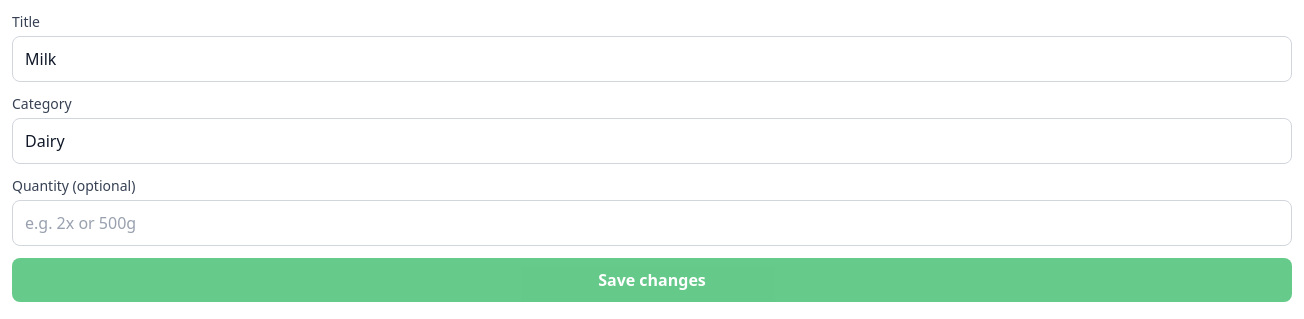
Scenario: CategoryCombobox in ItemEditForm (T93) › 4. keyboard-only selection works
Click the dropdown labelled "Category" at {"x": 652, "y": 141}, box 12,118 -> 1292,164
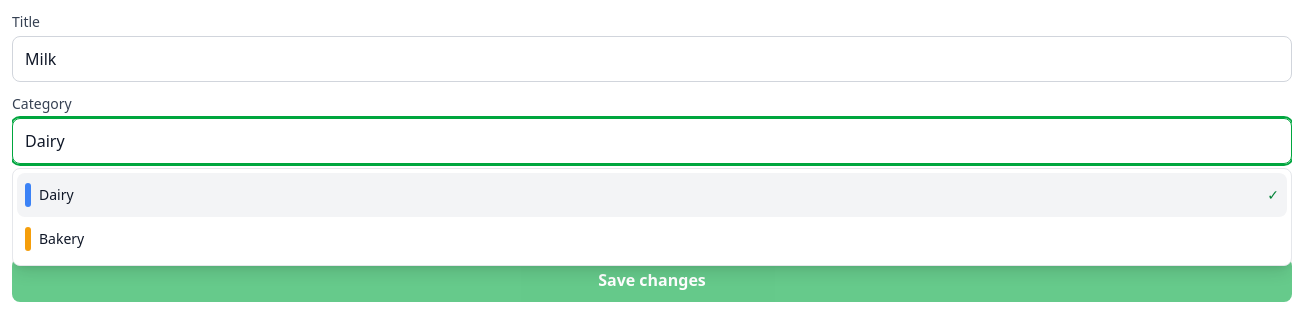
Press Arrowdown Enter
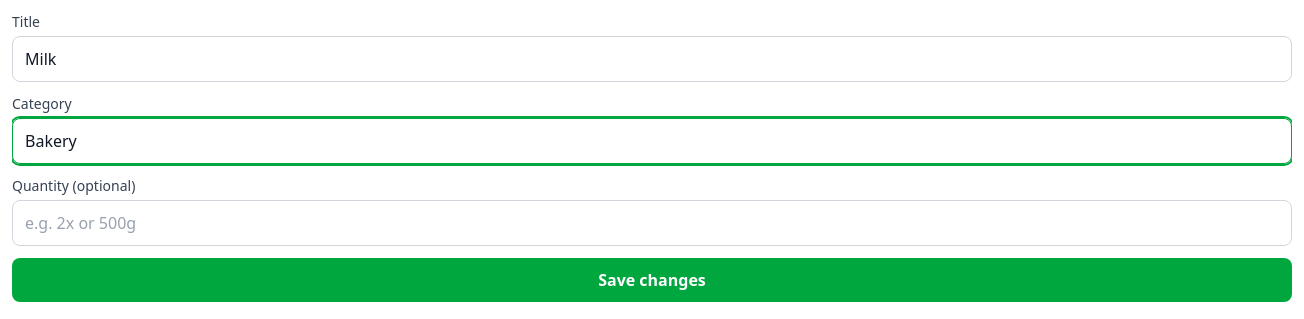
Check: the dropdown labelled "Category" holds "Bakery", box 12,118 -> 1292,164
